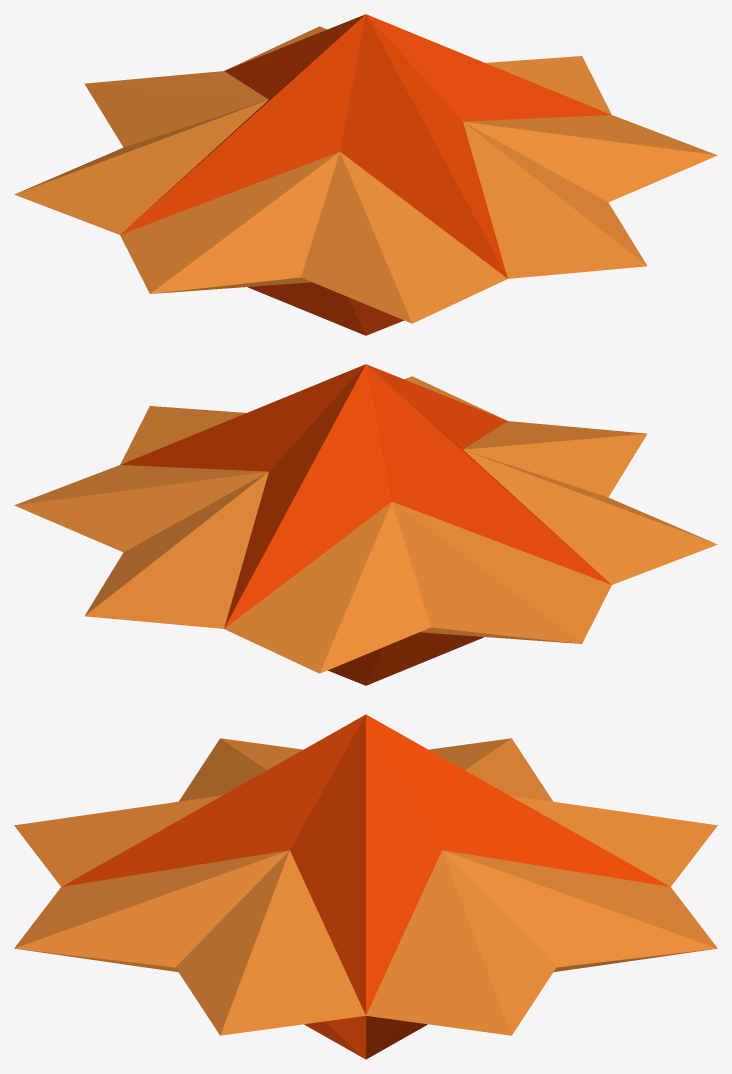
Rendered from buzzsaw.glb.
The picture shows the model from 3 angles, top to bottom: view 1: azimuth 30°, elevation 25°; view 2: azimuth 150°, elevation 25°; view 3: azimuth 270°, elevation 25°; orthographic projection. The views are drawn at different scales.
Parts seen in each view (by area): view 1: Body; view 2: Body; view 3: Body.
Part boxes in pixels (box(x1,y1,x2,y2)): Body: box(14, 14, 717, 335); Body: box(14, 364, 717, 685); Body: box(14, 714, 717, 1059).
Size of the model in its own units: 1.85 by 1 by 1.85.
1 material, 1 textured.
